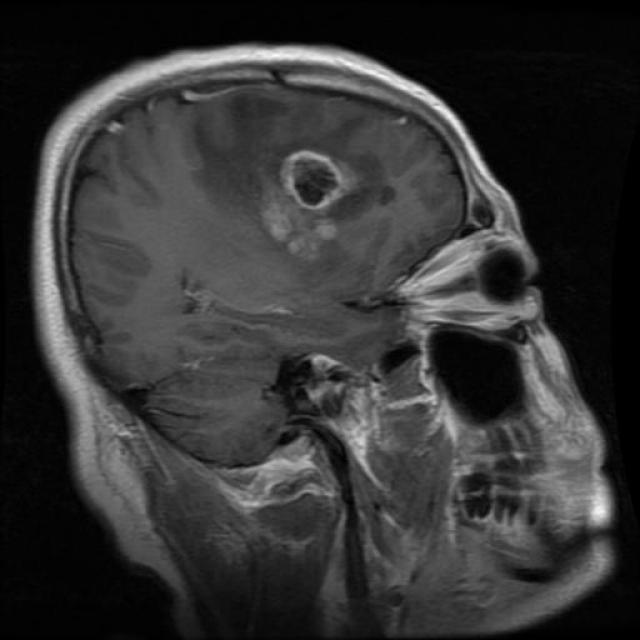Brain-Tumor: (266, 132, 364, 232)
eye: (391, 222, 550, 338)
